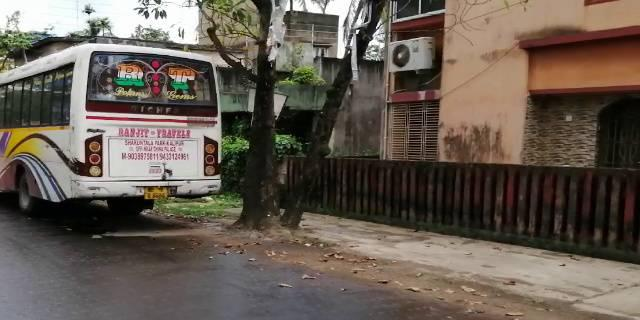Bus: (14, 43, 229, 207)
